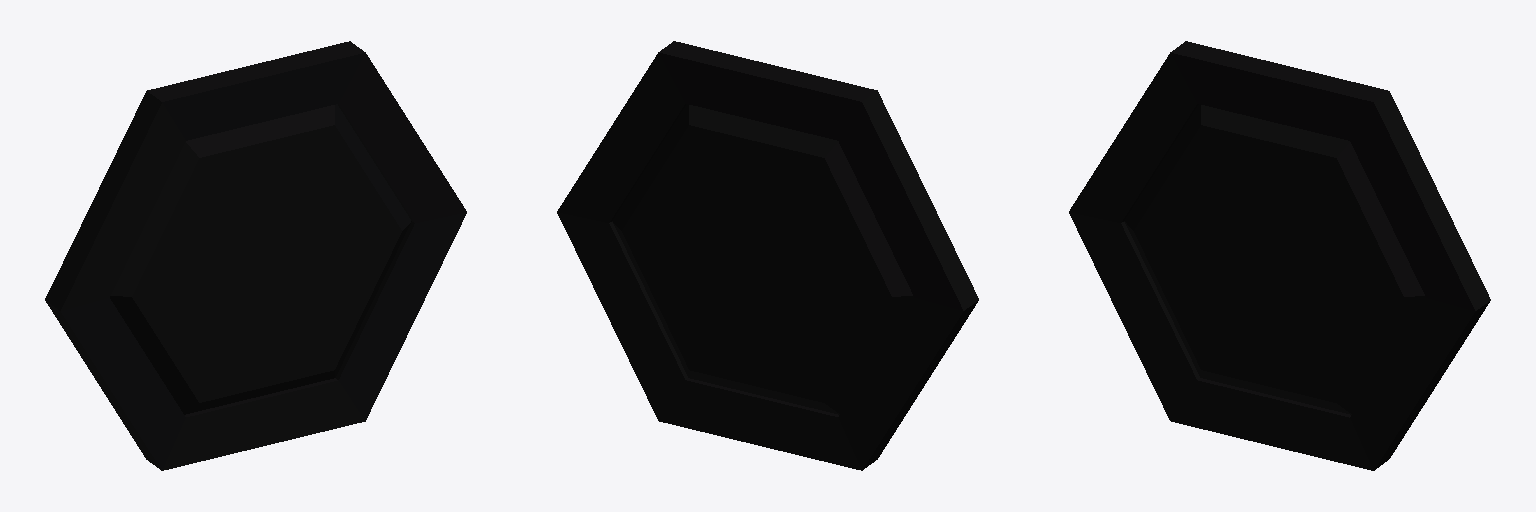
Rendered from Puerta.obj.
The picture shows the model from 3 angles: view 1: azimuth 30°, elevation 25°; view 2: azimuth 150°, elevation 25°; view 3: azimuth 330°, elevation 25°; orthographic projection.
Parts seen in each view (by area): view 1: Puerta_Cube.003; view 2: Puerta_Cube.003; view 3: Puerta_Cube.003.
Boxes of the visible parts, x1,y1,x2,y2 form: Puerta_Cube.003: [45, 41, 466, 470]; Puerta_Cube.003: [557, 41, 978, 470]; Puerta_Cube.003: [1069, 41, 1490, 470].
Size of the model in its own units: 7.1 by 6.15 by 0.6726.